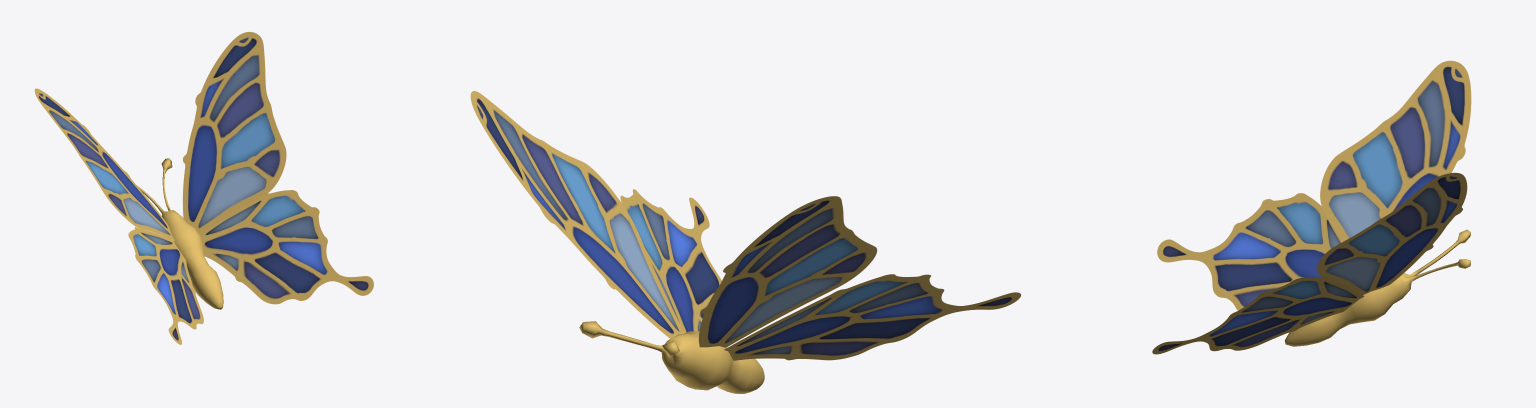
Rendered from stained_glass_butterfly.glb.
3 views of the same model, side by side, from view 1: azimuth 30°, elevation 25°; view 2: azimuth 150°, elevation 25°; view 3: azimuth 270°, elevation 25° (orthographic). The views are drawn at different scales.
Parts seen in each view (by area): view 1: Plane.005, Plane.004, Plane.007, Plane.006, Retopo_body.001; view 2: Plane.005, Plane.007, Plane.006, Plane.004, Retopo_body.001; view 3: Plane.007, Plane.006, Plane.005, Plane.004, Retopo_body.001.
Boxes of the visible parts, bbox=[...] form: Plane.005: bbox=[182, 32, 286, 234]; Plane.004: bbox=[200, 190, 373, 304]; Plane.007: bbox=[34, 88, 174, 240]; Plane.006: bbox=[128, 227, 203, 344]; Retopo_body.001: bbox=[136, 158, 223, 309]; Plane.005: bbox=[470, 91, 684, 338]; Plane.007: bbox=[698, 196, 877, 347]; Plane.006: bbox=[724, 274, 1020, 360]; Plane.004: bbox=[620, 189, 721, 332]; Retopo_body.001: bbox=[579, 321, 764, 393]; Plane.007: bbox=[1320, 60, 1471, 241]; Plane.006: bbox=[1157, 193, 1342, 310]; Plane.005: bbox=[1316, 172, 1467, 294]; Plane.004: bbox=[1152, 276, 1364, 354]; Retopo_body.001: bbox=[1284, 229, 1470, 346].
Bounding box in the file's own units: 16.94 × 13.25 × 17.44.
Materials: 2 (2 with a texture image).
